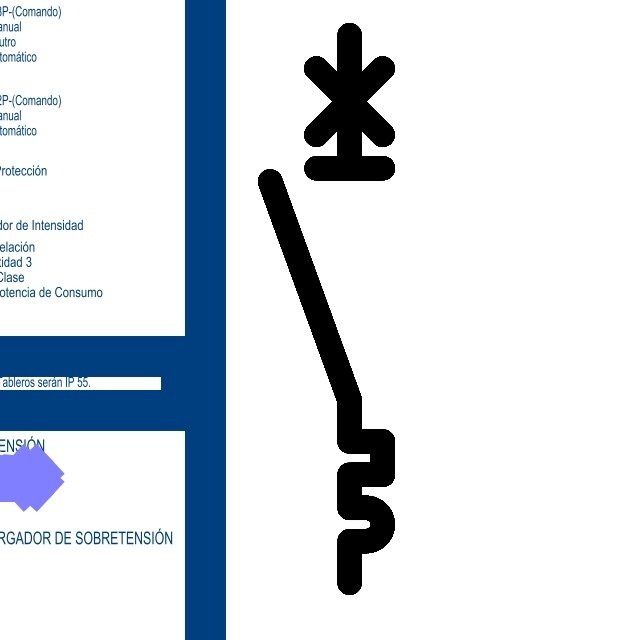interruptor_termomagnetico: (256, 21, 397, 597)
